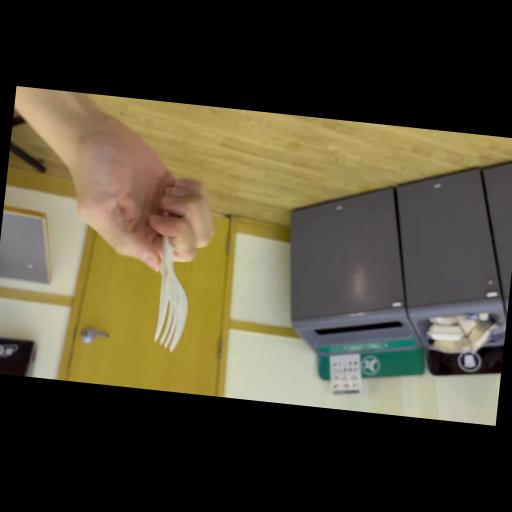utensil: (144, 222, 212, 358)
